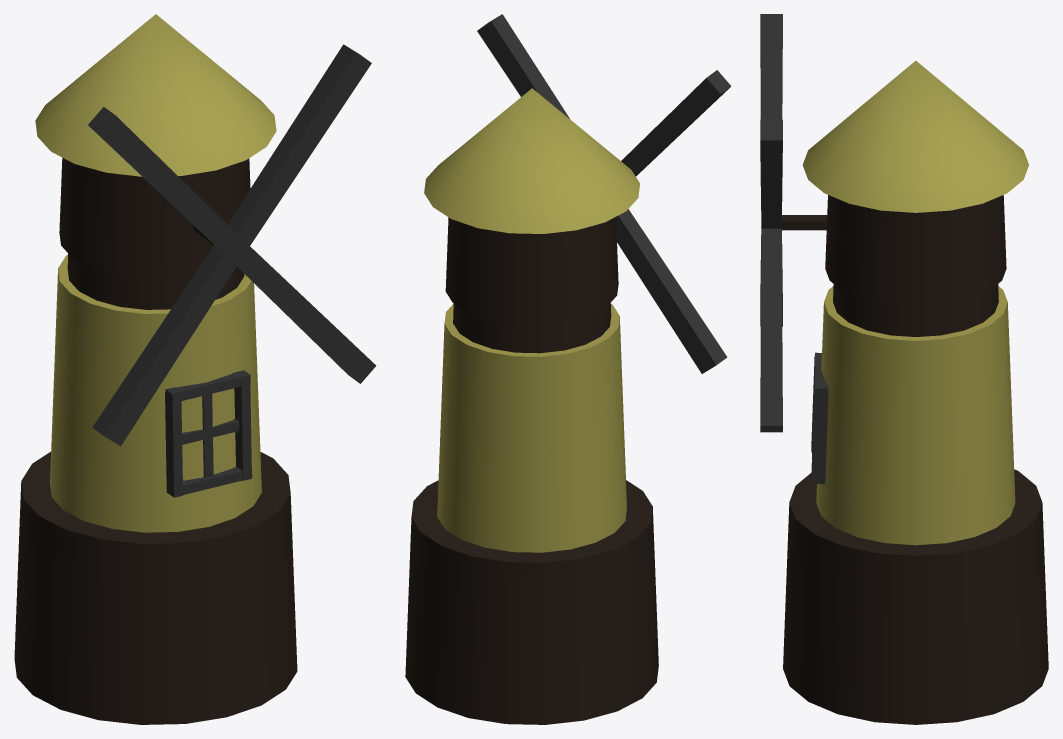
The model's file is moinho_01.fbx.
3 renders of one model, left to right at view 1: azimuth 30°, elevation 25°; view 2: azimuth 150°, elevation 25°; view 3: azimuth 270°, elevation 25°, orthographic. The views are drawn at different scales.
Visible parts, largest first — view 1: moinho_Matheus; view 2: moinho_Matheus; view 3: moinho_Matheus.
Part boxes in pixels (x1=…): moinho_Matheus: x1=14, y1=14, x2=376, y2=724; moinho_Matheus: x1=405, y1=14, x2=731, y2=724; moinho_Matheus: x1=760, y1=14, x2=1048, y2=724.
Size of the model in its own units: 669 by 1505 by 647.
